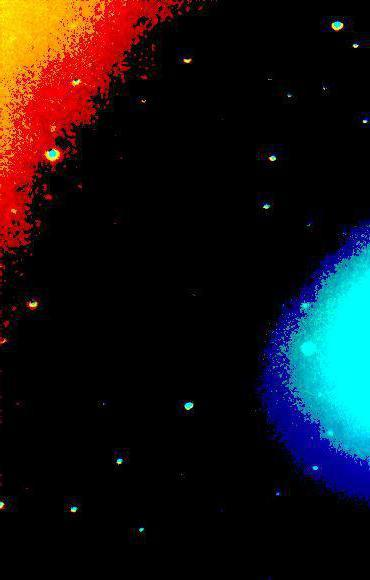star: (12, 324, 42, 354)
